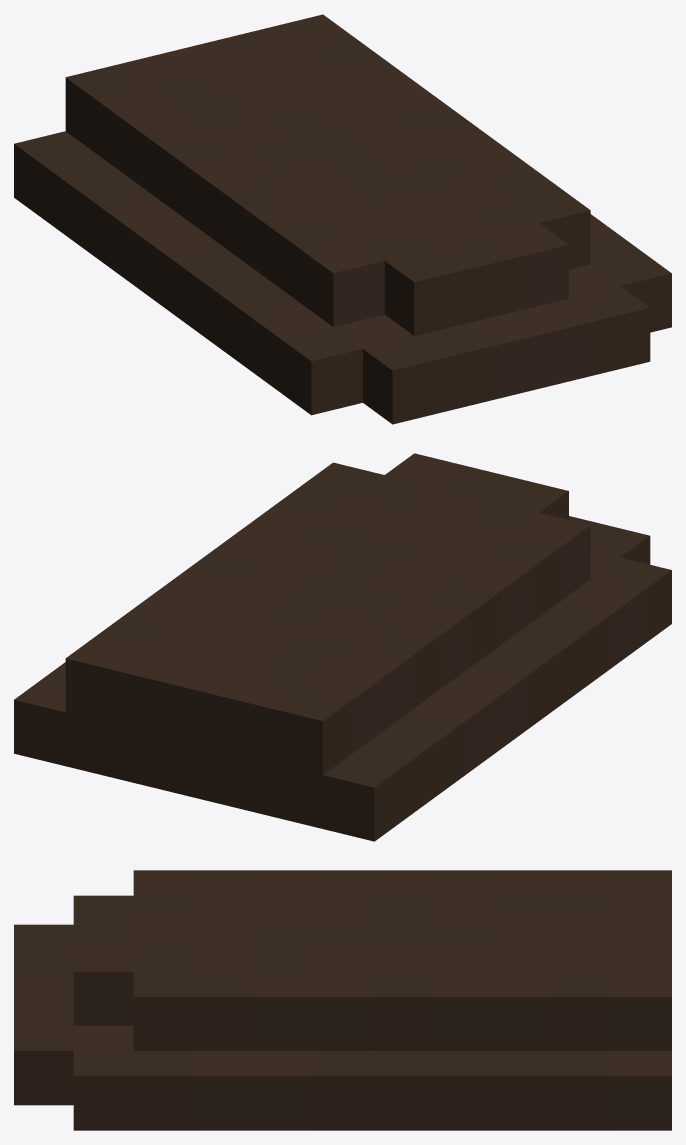
Rendered from farm-57-crop_end.obj.
The picture shows the model from 3 angles, top to bottom: view 1: azimuth 30°, elevation 25°; view 2: azimuth 150°, elevation 25°; view 3: azimuth 270°, elevation 25°; orthographic projection.
Parts seen in each view (by area): view 1: crop_end; view 2: crop_end; view 3: crop_end.
Part boxes in pixels (x1,y1,x2,y2): crop_end: [14, 14, 671, 424]; crop_end: [14, 453, 671, 841]; crop_end: [14, 870, 671, 1130].
Bounding box in the file's own units: 0.7 × 0.2 × 1.1.
1 material, 1 textured.
